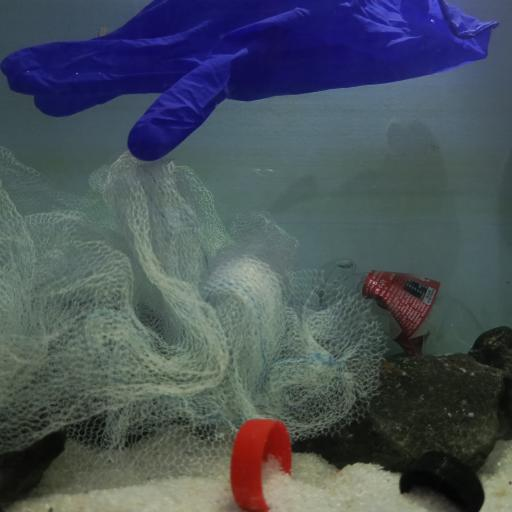bottle_cap: (230, 418, 292, 512), (398, 448, 485, 512)
glove: (2, 0, 500, 162)
net: (2, 157, 384, 463)
plastic_bottle: (314, 257, 485, 358)
